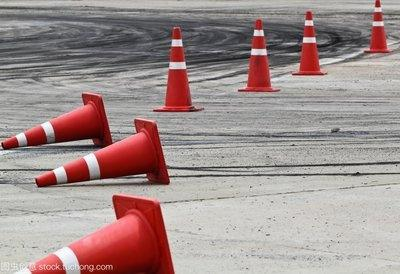cone_barrel: (13, 195, 172, 273), (33, 121, 169, 187), (154, 24, 199, 112), (238, 17, 277, 91), (292, 11, 325, 76), (363, 0, 390, 53)
